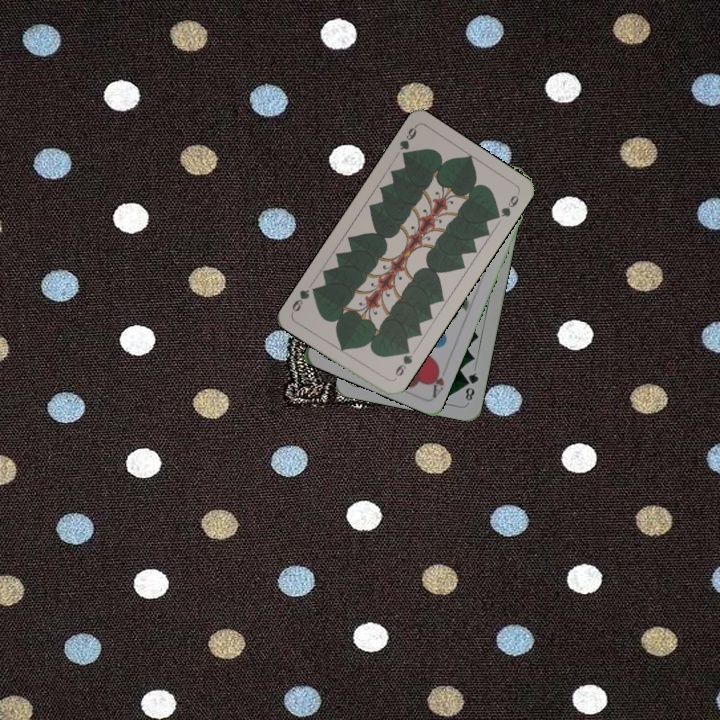G8: (461, 368, 481, 403)
G9: (389, 344, 415, 383), (395, 122, 419, 162)
HA: (426, 360, 447, 400)
